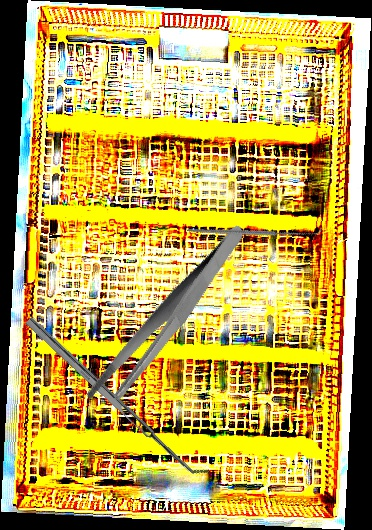Dressing Forceps: (55, 223, 282, 414)
Hook Surgical: (186, 168, 323, 291)
Spatula Surgical: (25, 309, 210, 484)
